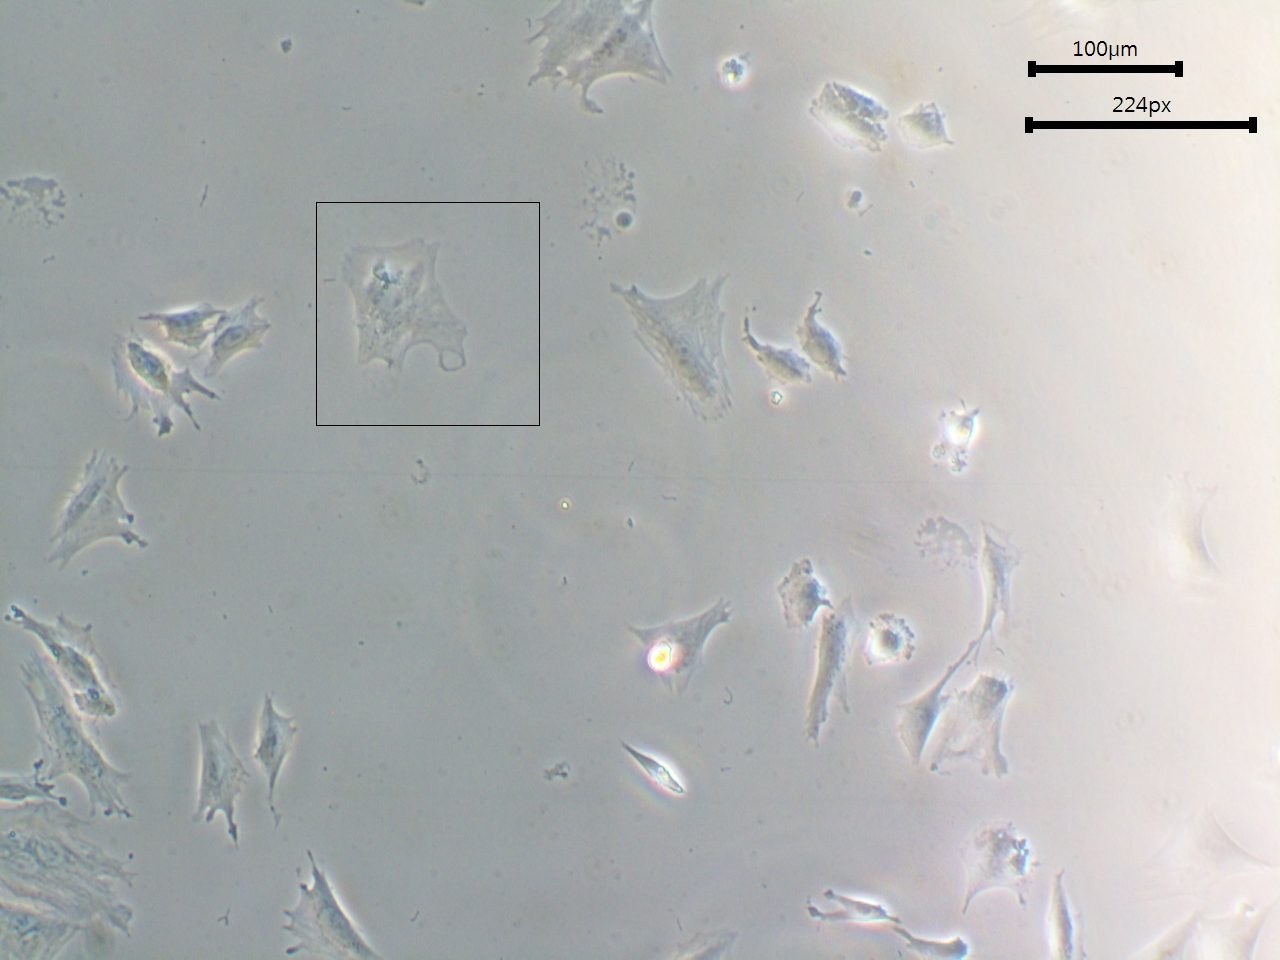medium-polygonal: (3, 597, 145, 726), (36, 451, 169, 579), (109, 331, 232, 447), (623, 597, 750, 702), (799, 612, 854, 745)
medium-spread: (606, 256, 751, 429), (929, 672, 1034, 781)
small-polygonal: (939, 820, 1047, 925), (180, 706, 255, 850), (246, 693, 321, 832), (962, 515, 1035, 638), (740, 317, 815, 407), (809, 73, 891, 155), (798, 873, 904, 934), (798, 291, 866, 384), (137, 296, 226, 349)
small-spread: (920, 398, 989, 479), (851, 604, 922, 674), (772, 554, 837, 626), (894, 102, 964, 153)
spindle: (597, 736, 695, 797)
